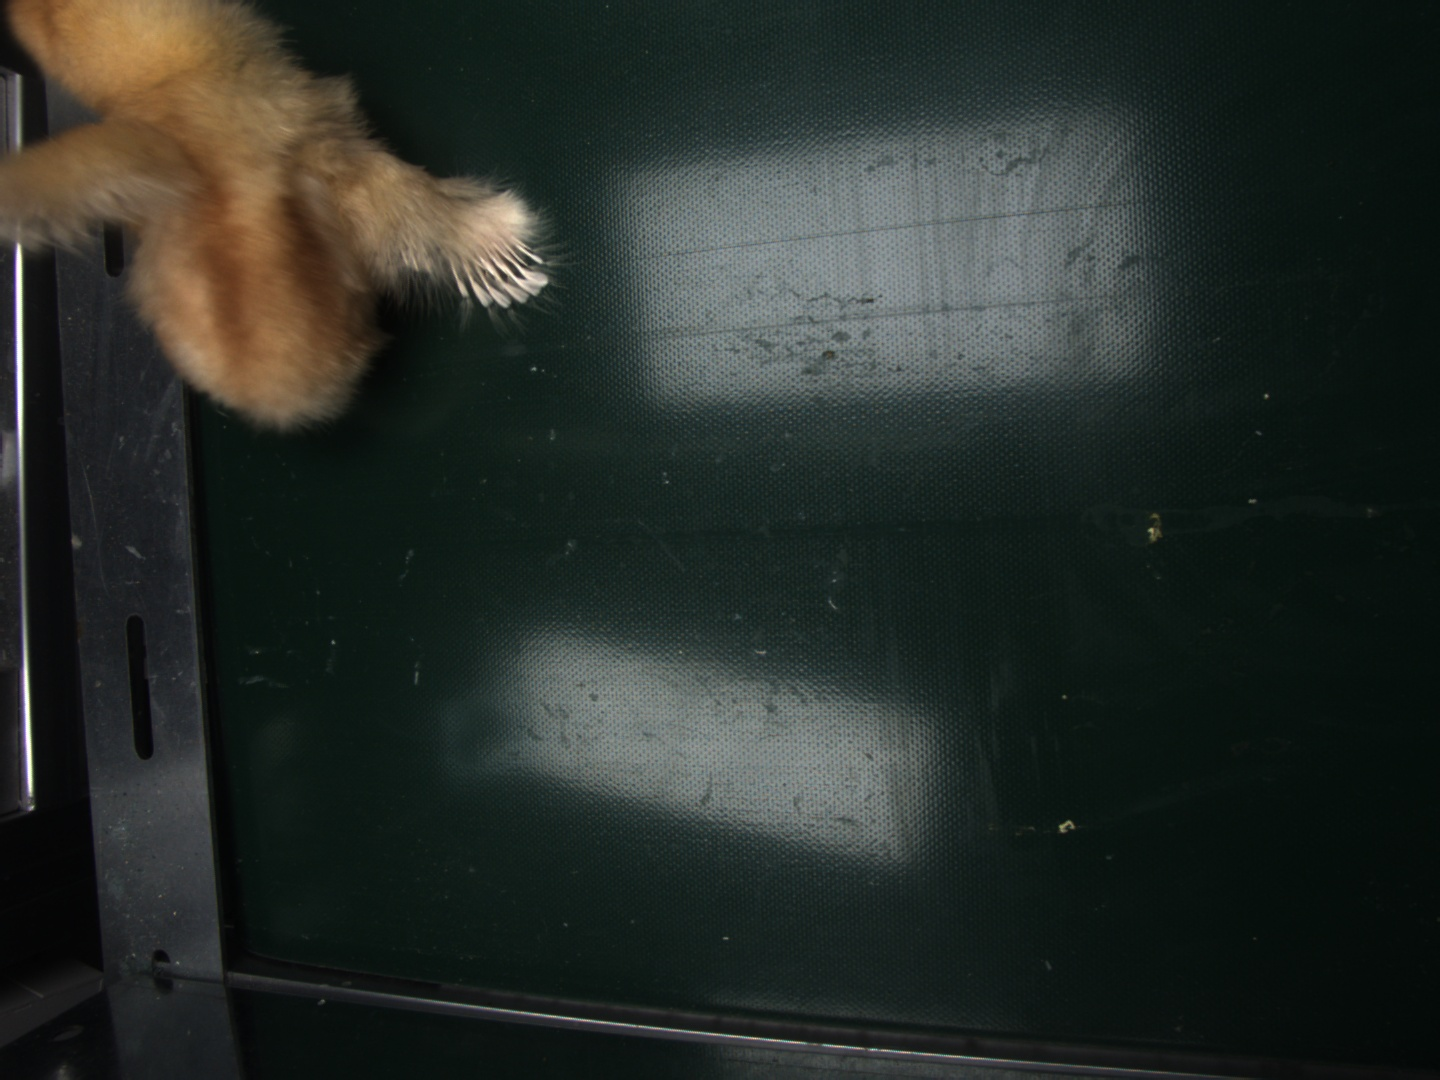female: (456, 239, 547, 307)
